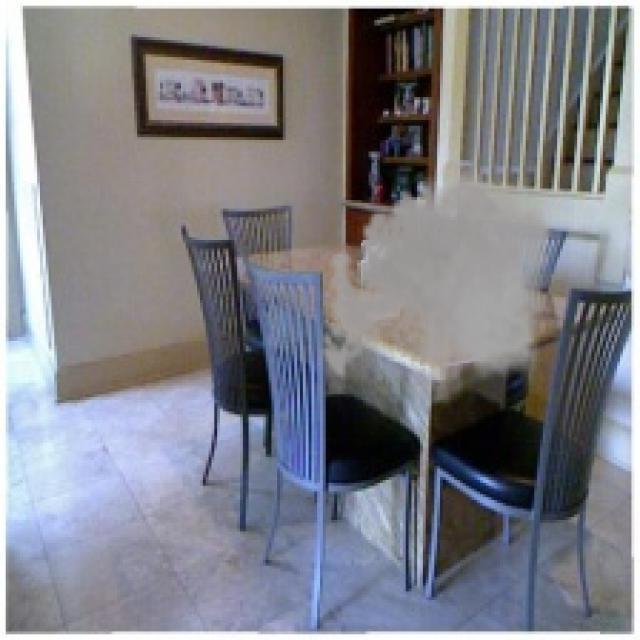Smoke: (314, 157, 560, 420)
